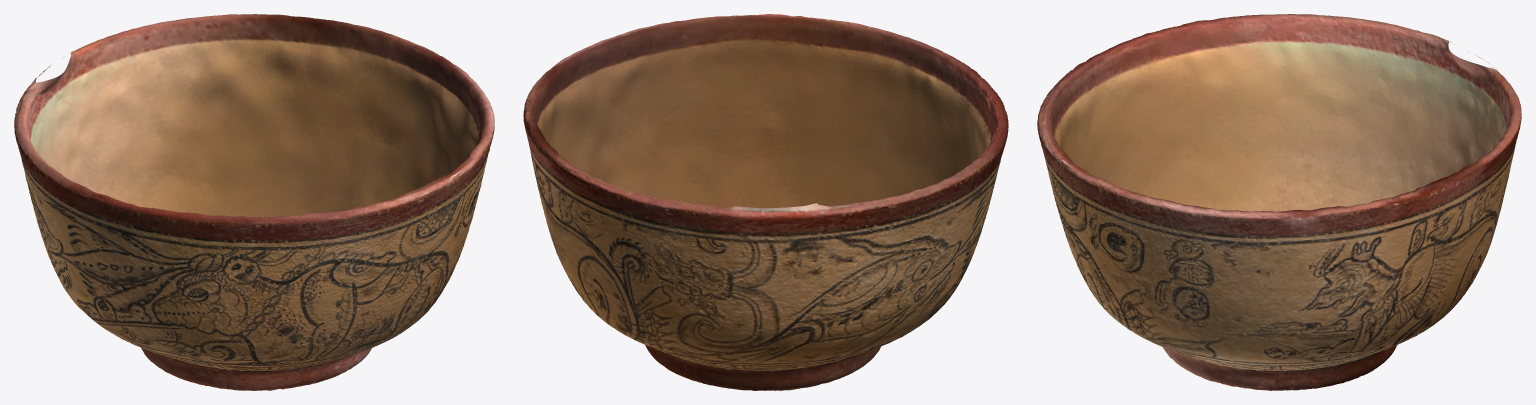
File: modelo.glb
3 renders of one model, left to right at view 1: azimuth 30°, elevation 25°; view 2: azimuth 150°, elevation 25°; view 3: azimuth 270°, elevation 25°, orthographic.
Bounding box in the file's own units: 1.13 × 0.6131 × 1.13.
Materials: 1 (1 with a texture image).
